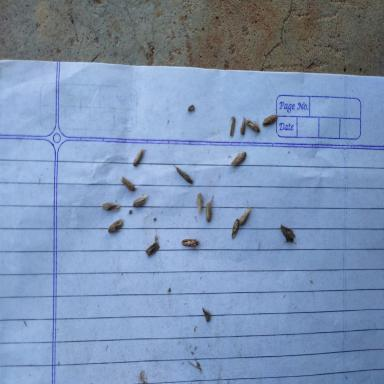pbw: (172, 163, 193, 183), (239, 201, 252, 224), (280, 225, 296, 242), (107, 217, 123, 233), (230, 150, 246, 166), (120, 176, 135, 191), (131, 193, 148, 206), (101, 201, 120, 212), (132, 148, 145, 164), (205, 196, 213, 222), (246, 118, 260, 132), (182, 239, 199, 249), (262, 115, 278, 125), (195, 192, 202, 214), (231, 218, 238, 240), (229, 114, 235, 136), (241, 117, 245, 133)
